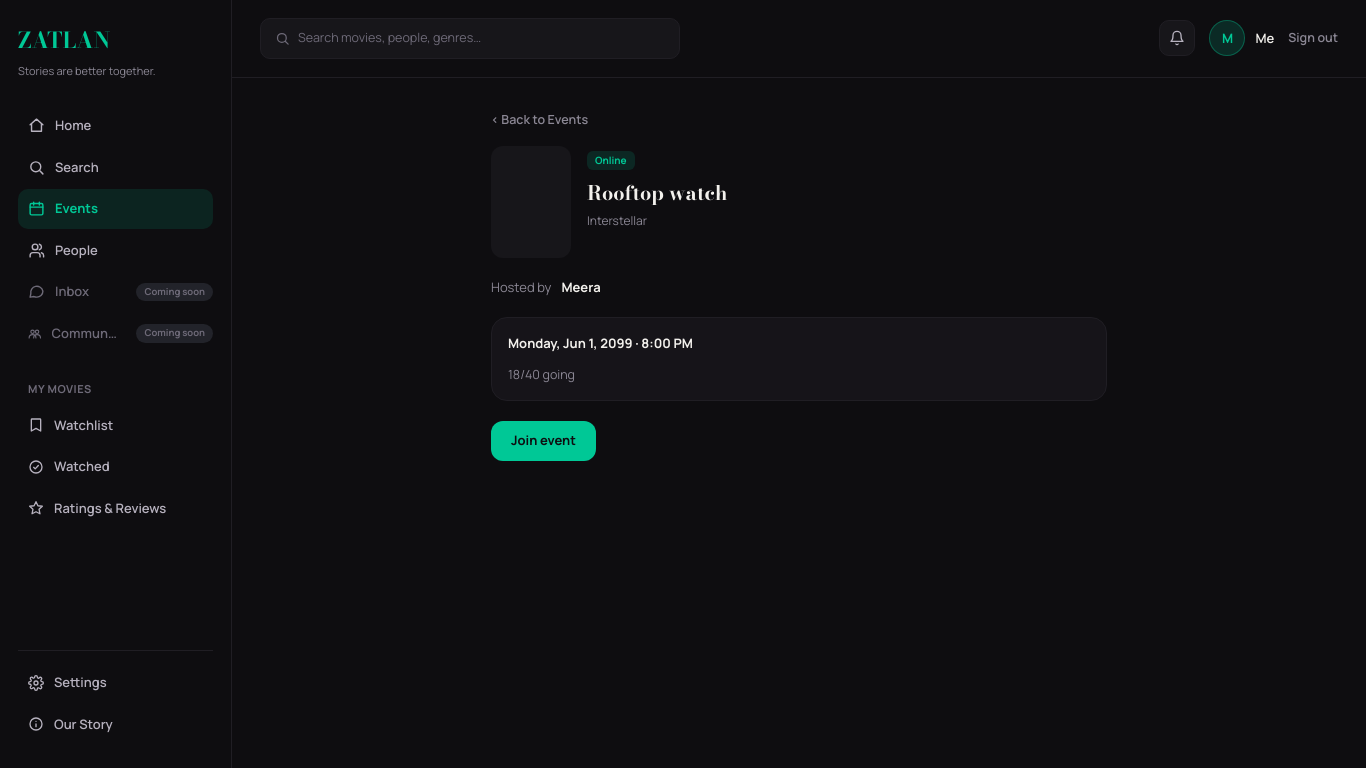
Test: EventDetailPage › shows Requested (disabled) when the join created a pending request
Click the button "Join event": (543, 441) [491, 421, 596, 461]
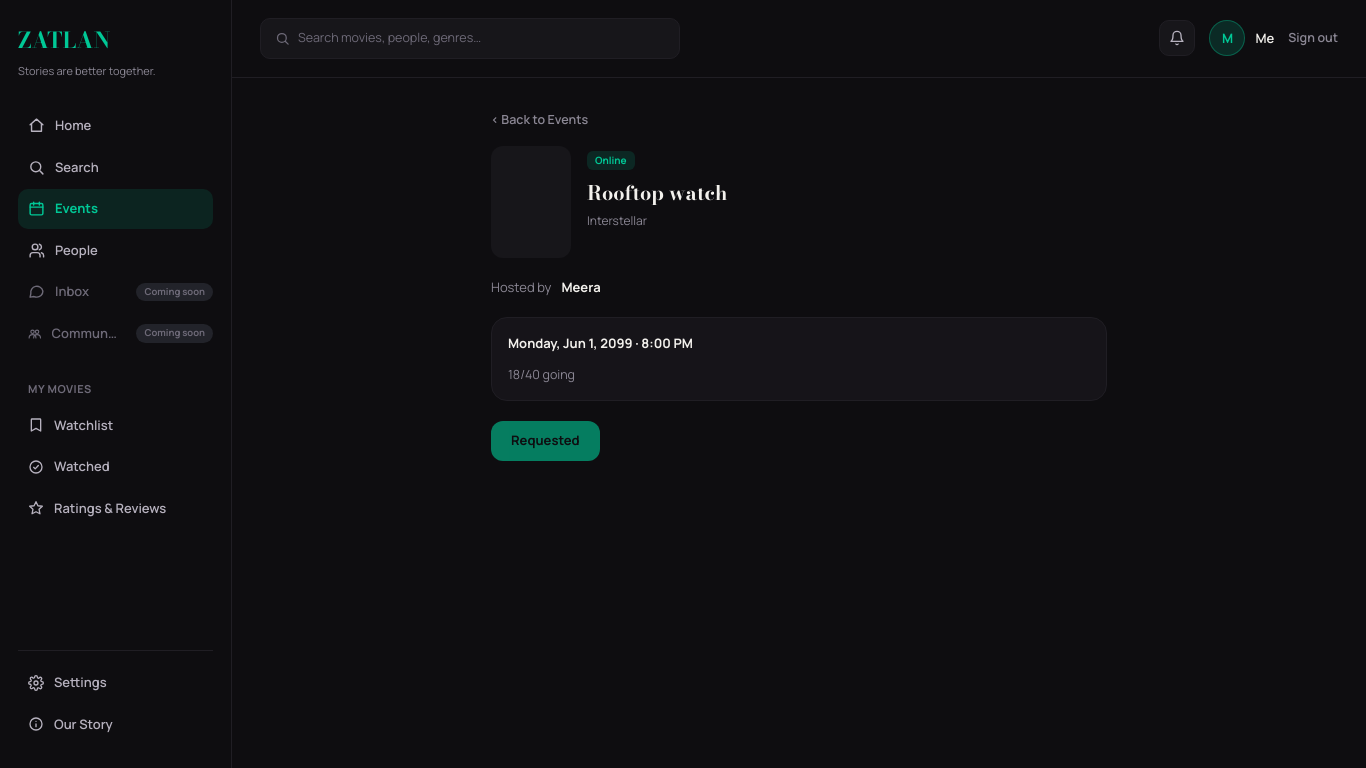
Expected: the button "Requested" is disabled, [491, 421, 600, 461]
